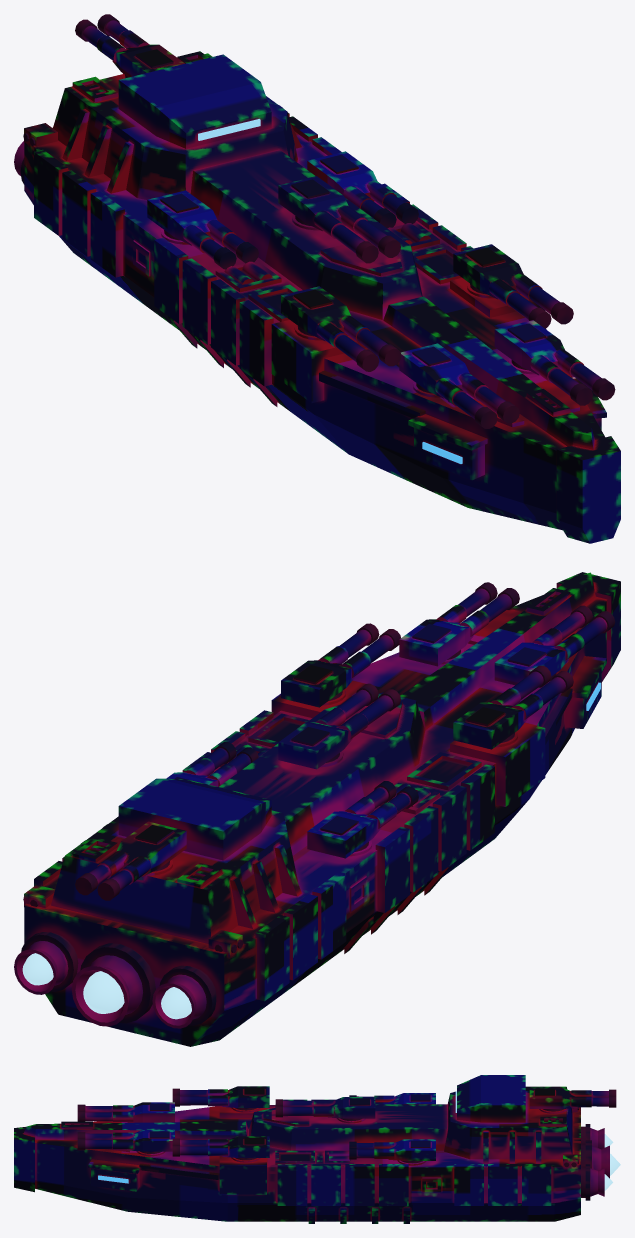
File: broadside.glb
The picture shows the model from 3 angles, top to bottom: view 1: azimuth 30°, elevation 25°; view 2: azimuth 150°, elevation 25°; view 3: azimuth 270°, elevation 25°; orthographic projection. The views are drawn at different scales.
Visible parts, largest first — view 1: broadside; view 2: broadside; view 3: broadside.
Boxes of the visible parts, x1,y1,x2,y2 form: broadside: (14, 14, 620, 543); broadside: (14, 572, 620, 1046); broadside: (14, 1075, 620, 1223).
Size of the model in its own units: 3.04 by 2.47 by 11.51.
10 materials, 7 textured.
